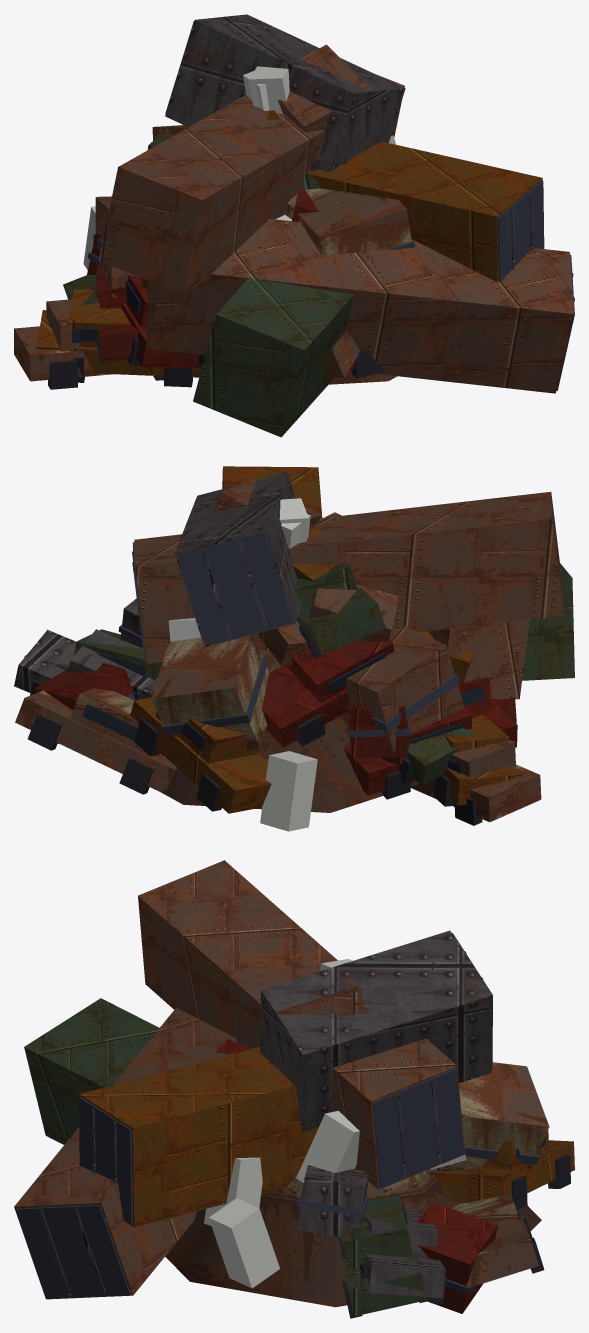
The model's file is scrap_pile_l.glb.
The picture shows the model from 3 angles, top to bottom: view 1: azimuth 30°, elevation 25°; view 2: azimuth 150°, elevation 25°; view 3: azimuth 270°, elevation 25°; orthographic projection. The views are drawn at different scales.
Parts seen in each view (by area): view 1: scrap_pile_l; view 2: scrap_pile_l; view 3: scrap_pile_l.
Boxes of the visible parts, x1,y1,x2,y2 form: scrap_pile_l: [14, 14, 574, 437]; scrap_pile_l: [14, 466, 574, 831]; scrap_pile_l: [14, 860, 574, 1318].
Bounding box in the file's own units: 14.13 × 7.74 × 13.44.
10 materials, 6 textured.
